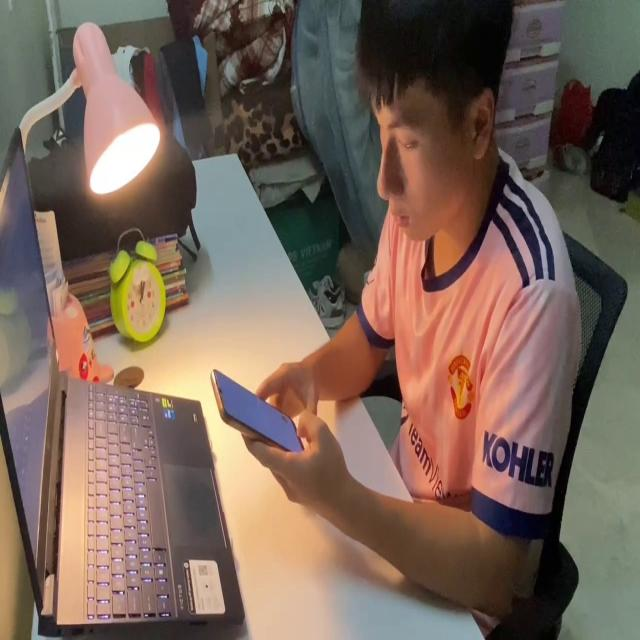laptop: (0, 120, 247, 632)
phone: (208, 351, 312, 458)
student: (239, 0, 586, 633)
